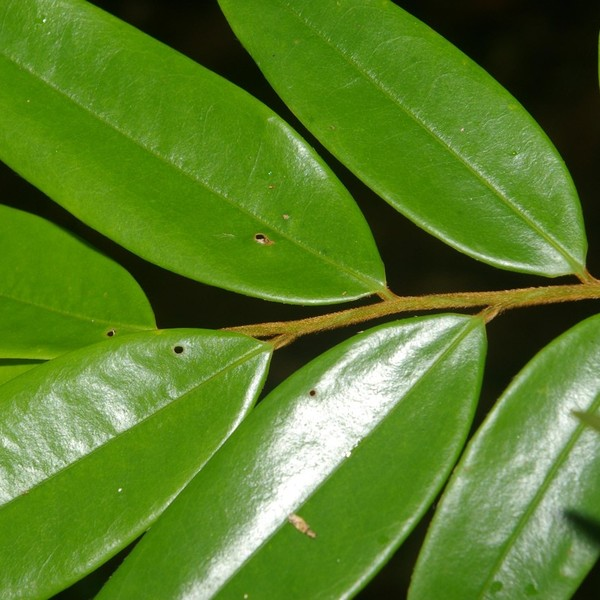obstacle: (30, 15, 574, 571)
